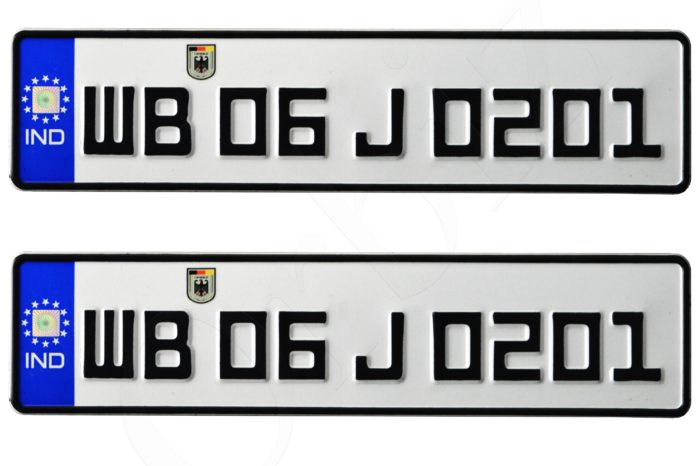inlp: (10, 249, 697, 422), (8, 28, 694, 196)
